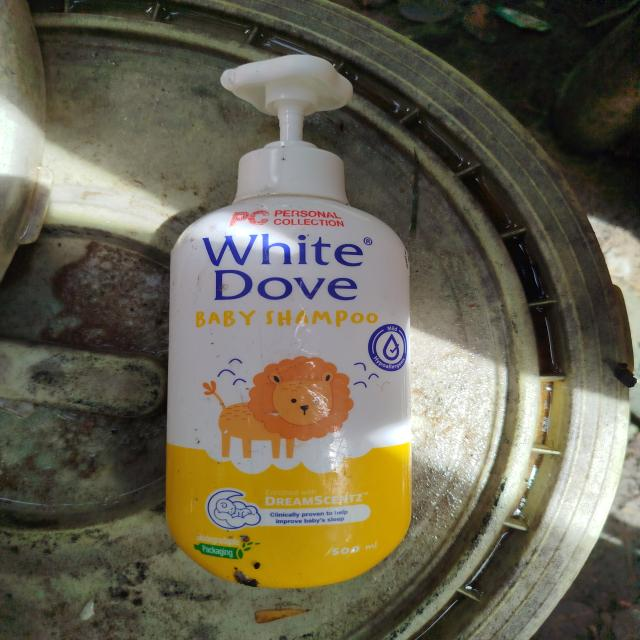plastic: (145, 40, 441, 600)
